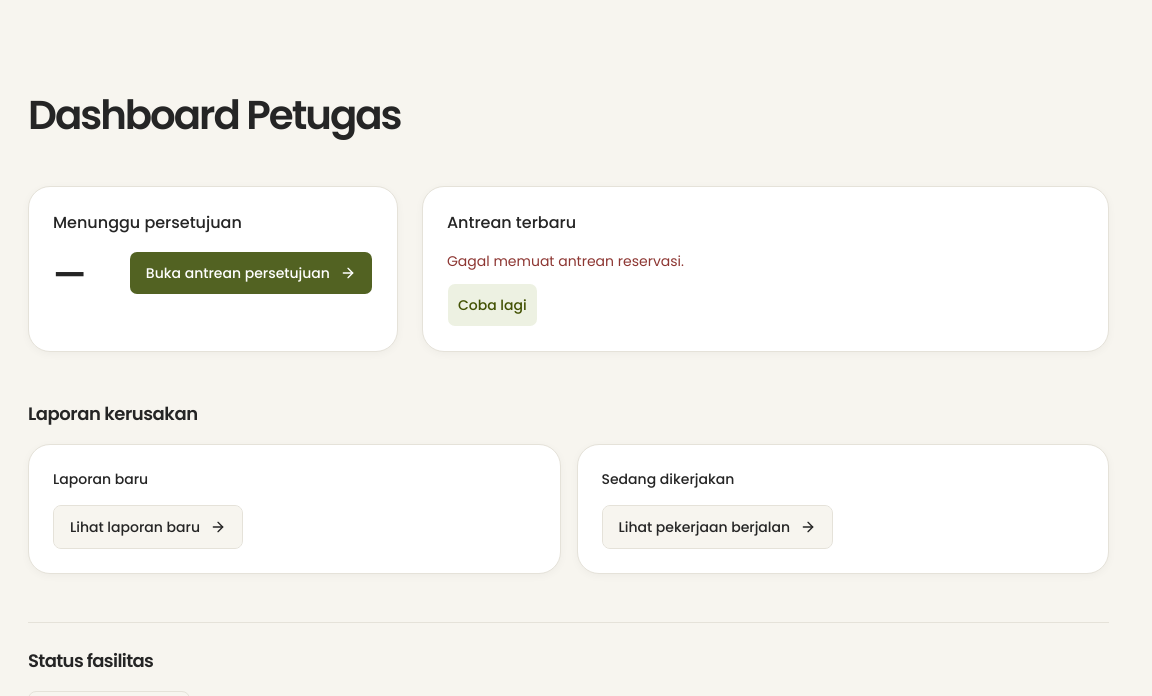
it: dashboard Petugas › membedakan kegagalan dari antrean kosong dan menyediakan retry
The image size is (1152, 696).
Expected: the message reads "Gagal memuat antrean reservasi.", [447,251,684,271]
Expected: the text "Belum ada reservasi menunggu." is not shown
Click the button "Coba lagi" at (492, 305), box [447,283,538,327]
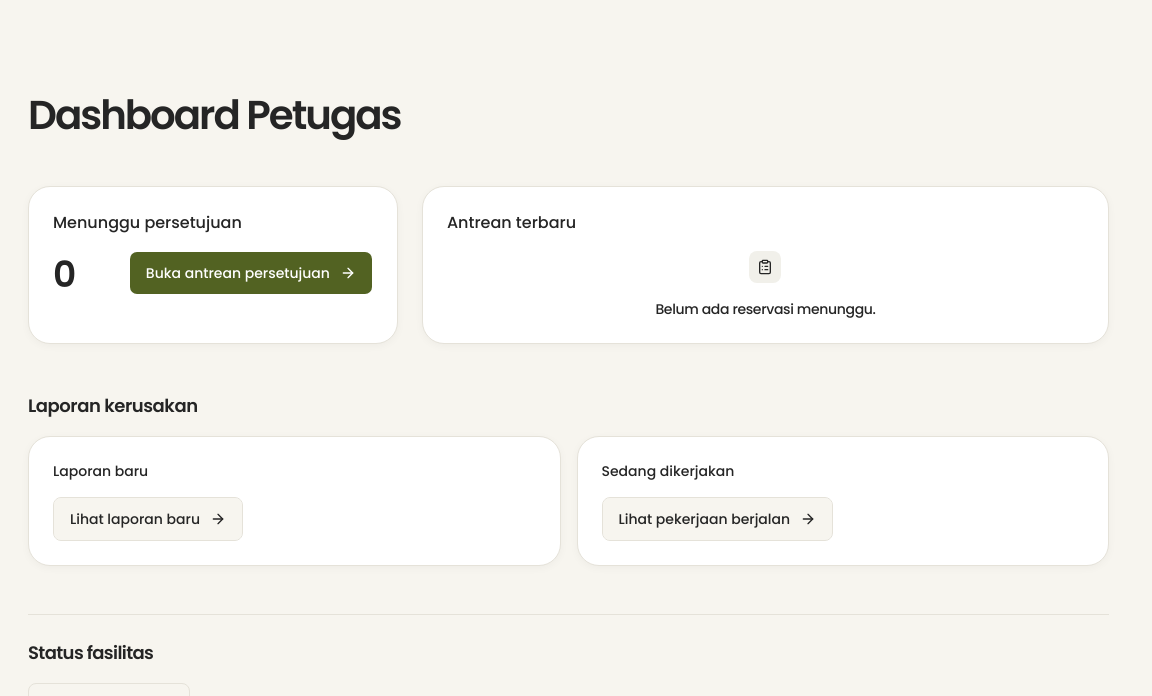
Expected: the text "Belum ada reservasi menunggu." is shown, [655,299,876,319]
